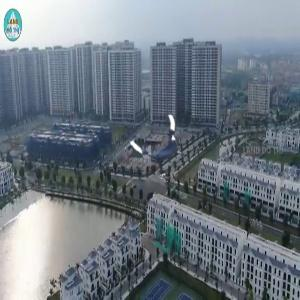drone: (137, 117, 193, 173)
